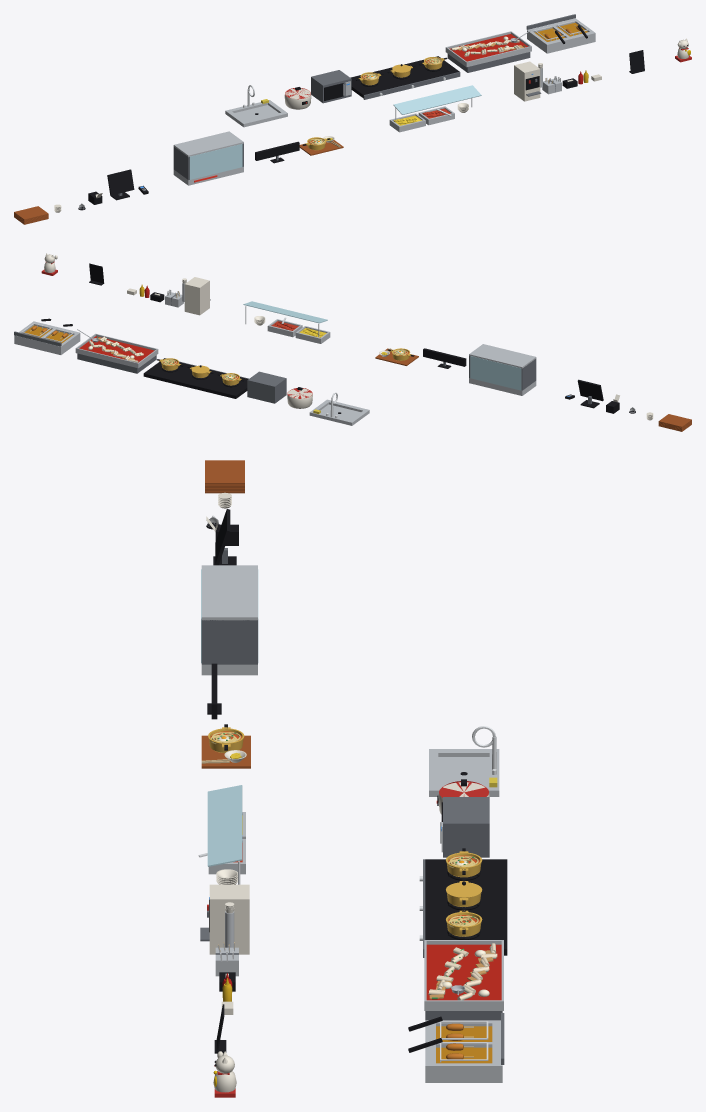
The model's file is food-corner-food.glb.
The picture shows the model from 3 angles, top to bottom: view 1: azimuth 30°, elevation 25°; view 2: azimuth 150°, elevation 25°; view 3: azimuth 270°, elevation 25°; orthographic projection. The views are drawn at different scales.
Parts seen in each view (by area): view 1: black24, glass297, steel173, glass387, steel0, steel241, white391, steelDark14, sauce115, black216, steelDark25, steelDark110 (+6 smaller); view 2: black24, glass298, steelDark14, steel173, steel0, white391, steel241, sauce115, glass387, steelDark110, white8, black339 (+6 smaller); view 3: black24, steel241, sauce115, steel173, glass387, steelDark14, steelDark244, steel0, white391, tray206_7.
Boxes of the visible parts, <box> form: black24: <box>350,56,459,98</box>; glass297: <box>189,144,242,179</box>; steel173: <box>527,18,595,53</box>; glass387: <box>393,85,481,114</box>; steel0: <box>225,100,287,127</box>; steel241: <box>173,131,243,157</box>; white391: <box>514,61,540,101</box>; steelDark14: <box>311,70,351,103</box>; sauce115: <box>449,34,527,61</box>; black216: <box>107,169,134,195</box>; steelDark25: <box>363,72,460,99</box>; steelDark110: <box>447,52,530,72</box>; black24: <box>143,358,248,398</box>; glass298: <box>470,356,521,390</box>; steelDark14: <box>247,371,286,403</box>; steel173: <box>14,321,80,354</box>; steel0: <box>309,399,369,425</box>; white391: <box>184,277,209,315</box>; steel241: <box>469,344,536,368</box>; sauce115: <box>79,336,154,362</box>; glass387: <box>243,301,327,323</box>; steelDark110: <box>77,353,156,373</box>; white8: <box>287,388,312,408</box>; black339: <box>423,348,466,366</box>; black24: <box>425,859,507,955</box>; steel241: <box>201,565,257,620</box>; sauce115: <box>426,944,501,1000</box>; steel173: <box>425,1020,502,1082</box>; glass387: <box>207,785,242,866</box>; steelDark14: <box>443,797,489,857</box>; steelDark244: <box>201,620,257,664</box>; steel0: <box>429,749,499,796</box>; white391: <box>209,884,249,954</box>; tray206_7: <box>205,460,244,484</box>.
Size of the model in its own units: 12.67 by 0.79 by 2.64.
